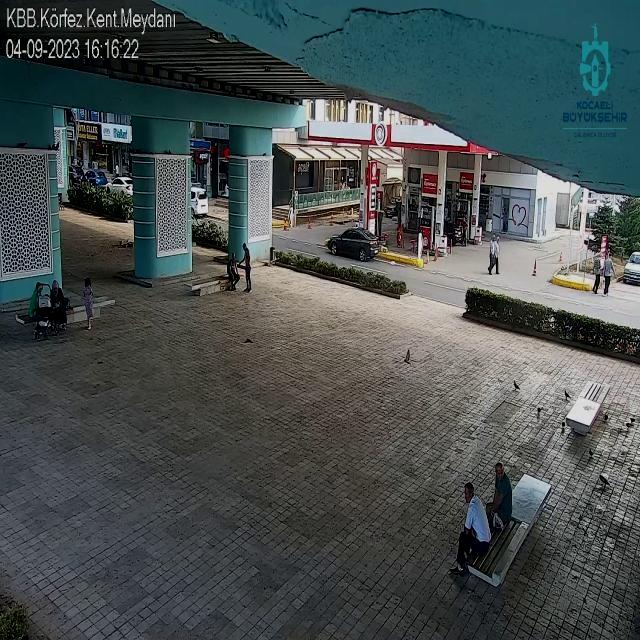Car: (324, 228, 382, 262), (621, 252, 640, 286), (106, 175, 133, 197), (86, 169, 107, 185)
Van: (191, 186, 209, 219)
